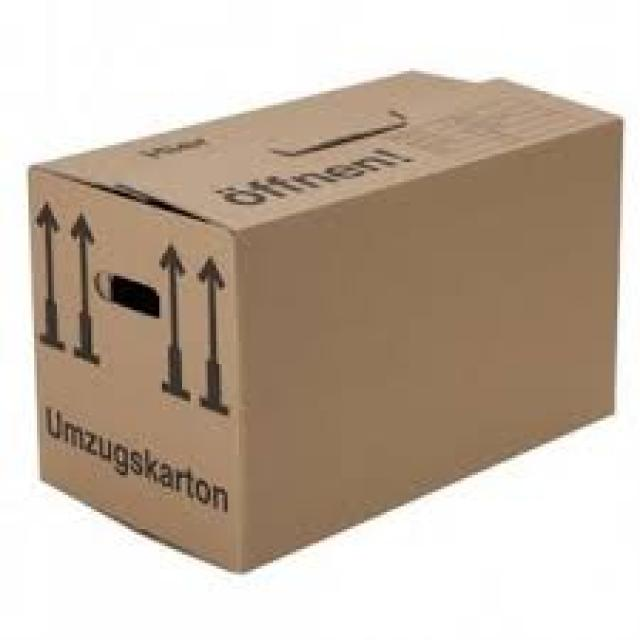cardboard: (23, 68, 620, 572)
